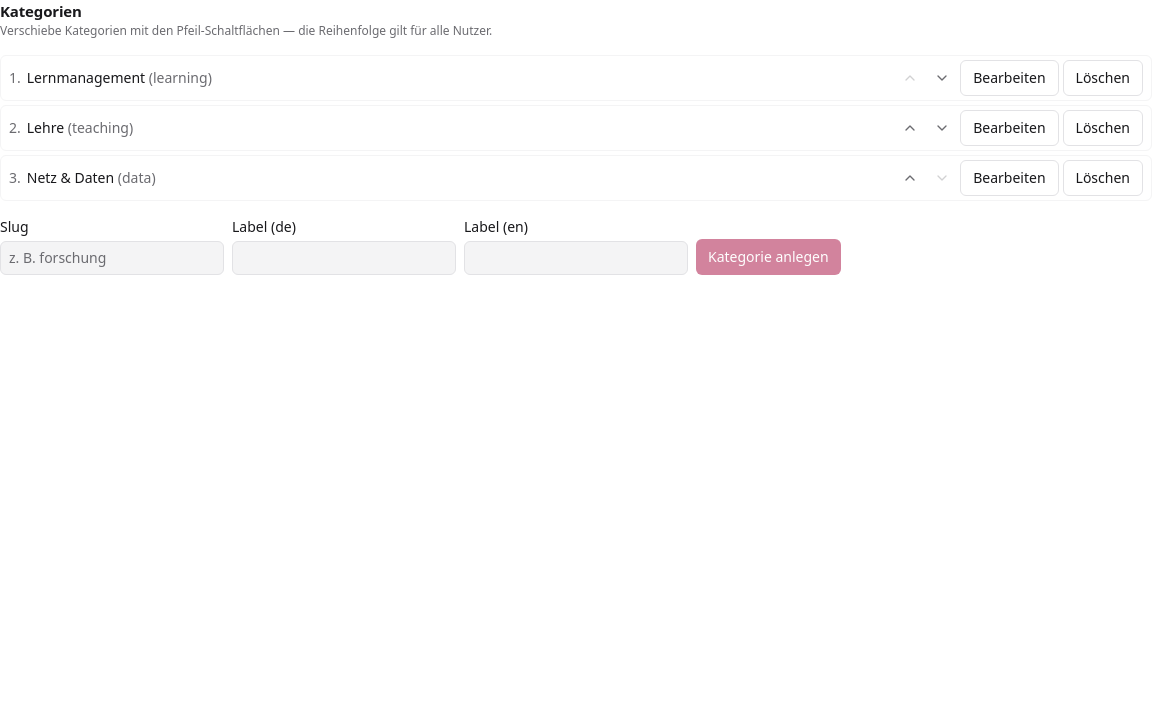
CategoriesAdmin — edit, delete and reorder (issue #130) › shows the "still in use" refusal as a readable alert and keeps the category
Click the button "Löschen" in the row of "Lernmanagement": (1103, 78) top-left (1063, 60), bottom-right (1143, 96)
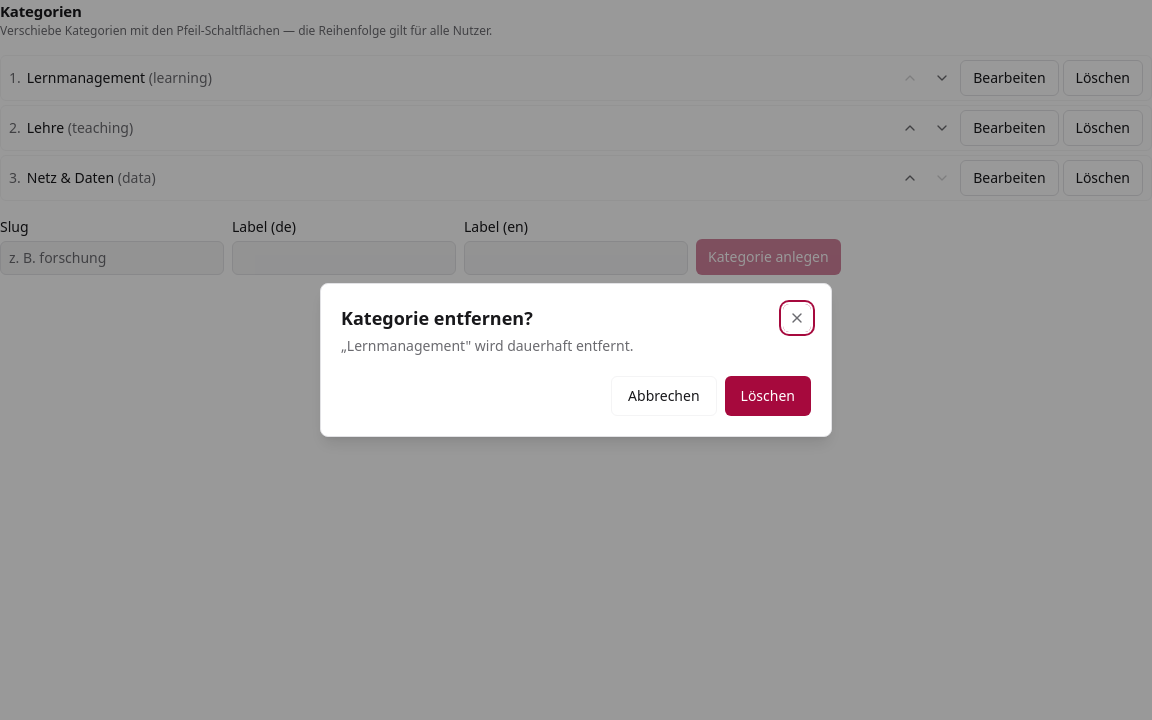
Click the button "Löschen": (768, 396) top-left (725, 376), bottom-right (811, 416)
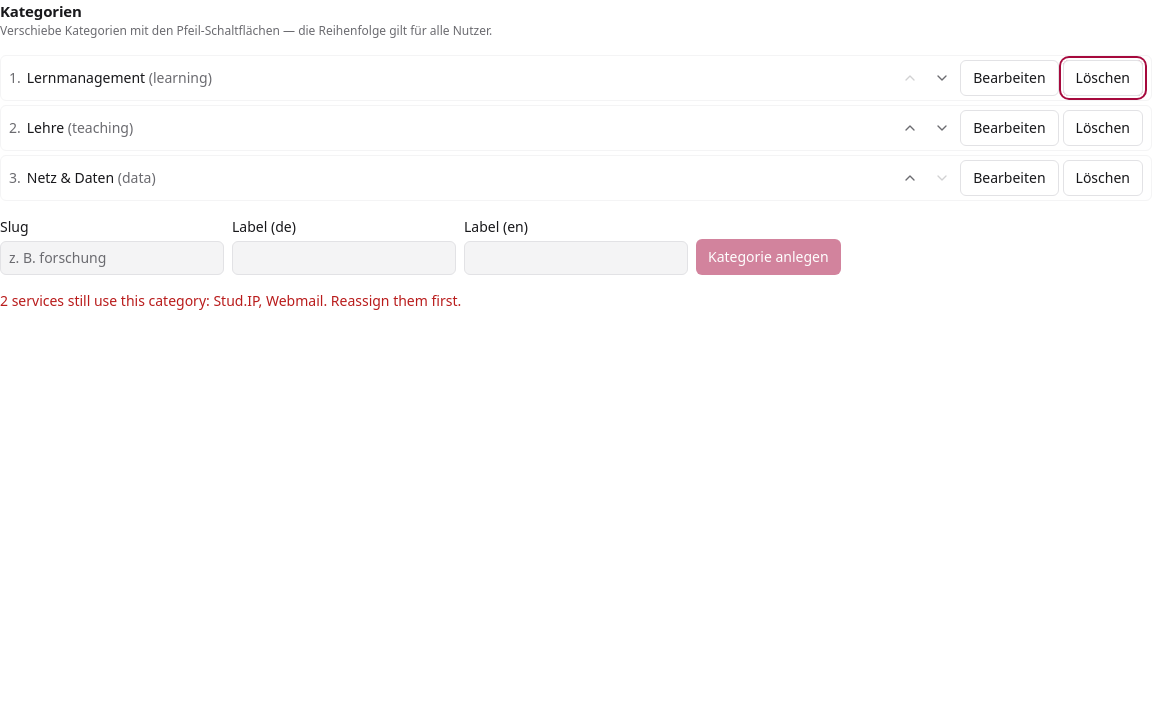
Check: the number of list items is 3, box top-left (0, 54), bottom-right (1151, 100); top-left (0, 104), bottom-right (1151, 150); top-left (0, 154), bottom-right (1151, 200)
Check: the message reads "2 services still use this category: Stud.IP, Webmail. Reassign them first.", box top-left (0, 290), bottom-right (461, 310)
Check: the dialog is gone
